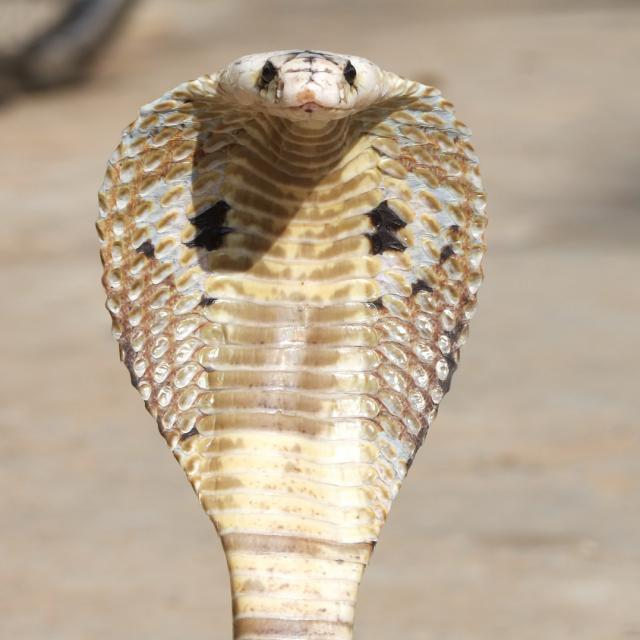Snake: (94, 47, 489, 638)
